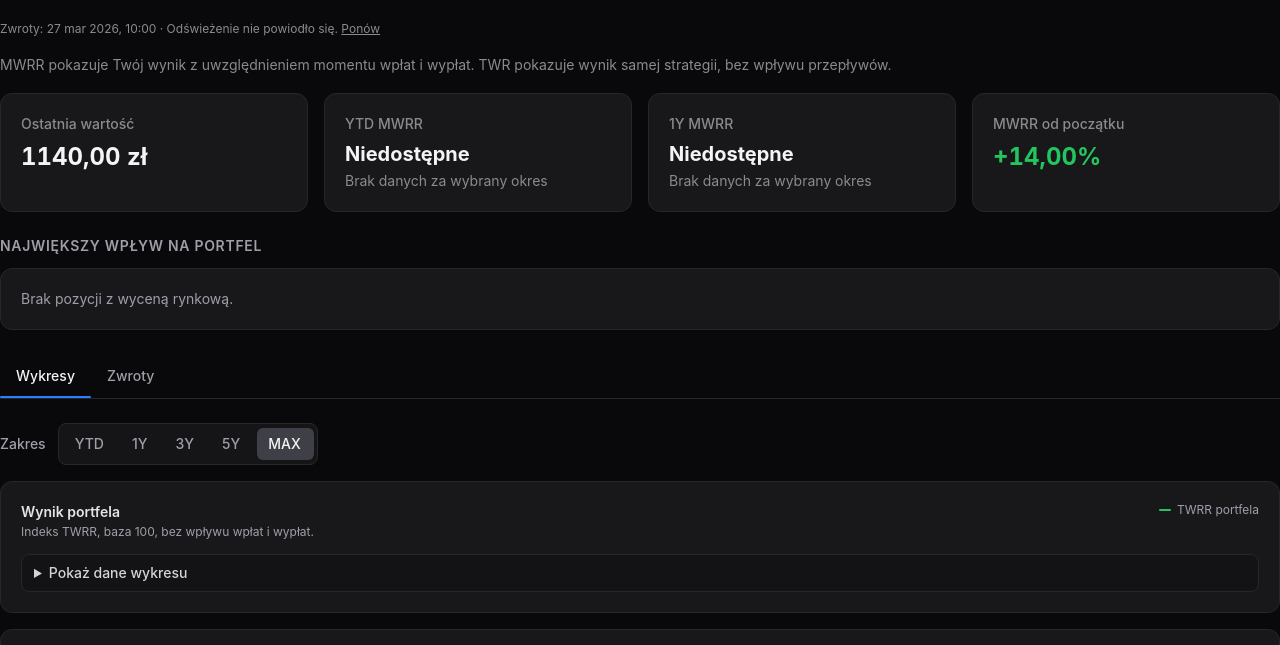
Scenario: PerformanceScreen › keeps returns visible, including after a failed preview refresh (true)
Click the tab "Zwroty" at [131, 376], box [91,354,170,398]
(page scrolled)
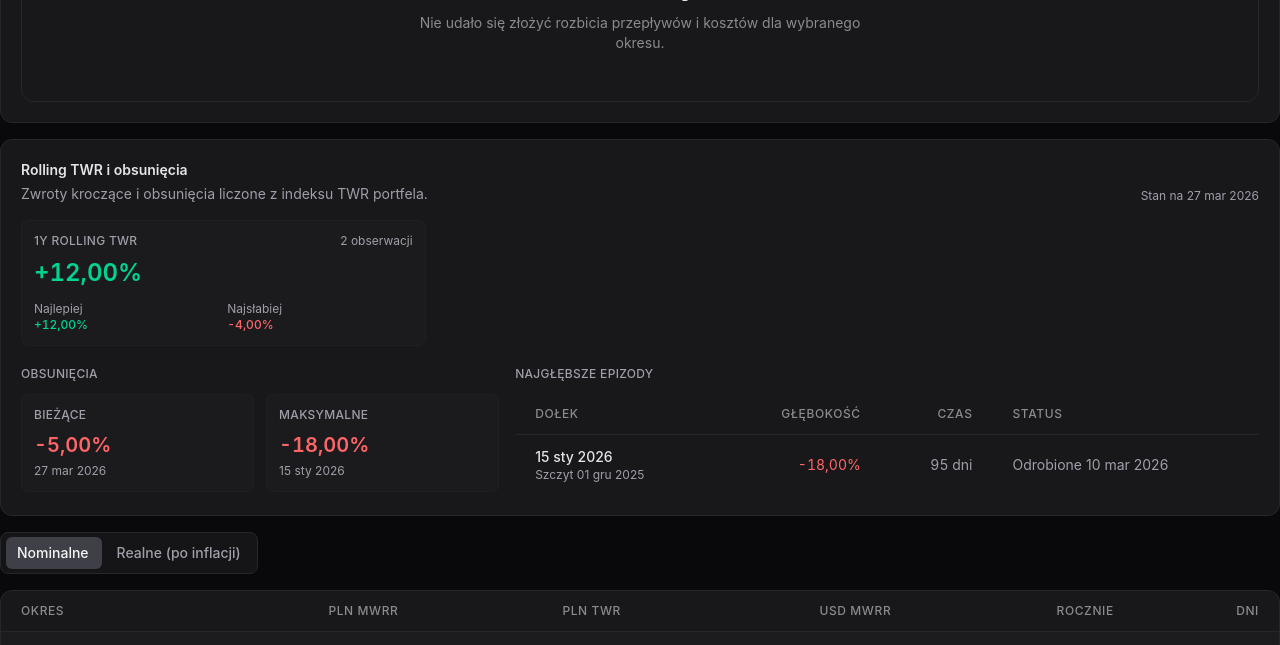
Now the heading "Rolling TWR i obsunięcia" is shown, box [21,160,188,178]
Now the text "1Y rolling TWR" is shown, box [34,232,138,248]
Now the 1st text "+12,00%" is shown, box [34,258,142,286]
